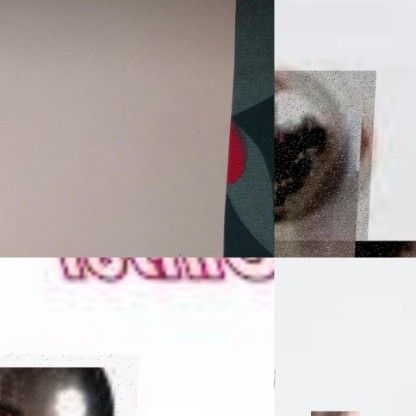ironball: (274, 70, 377, 255), (0, 354, 141, 415)
